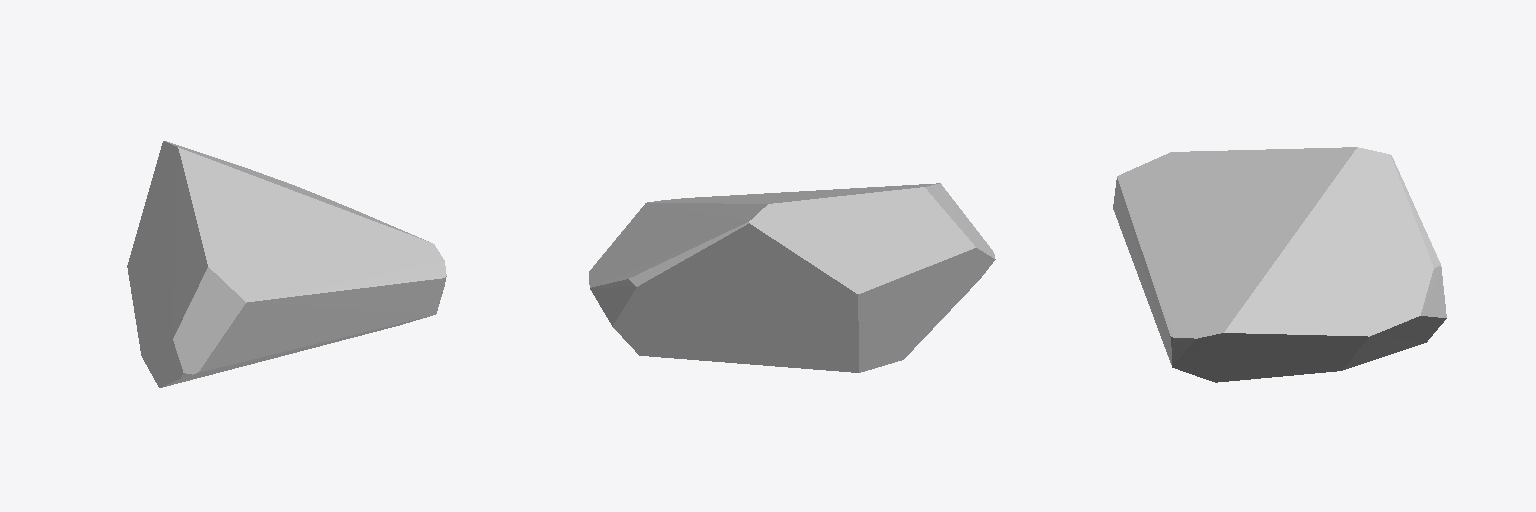
The model's file is Sphere_Cell_Fracture43.obj.
The picture shows the model from 3 angles: view 1: azimuth 30°, elevation 25°; view 2: azimuth 150°, elevation 25°; view 3: azimuth 270°, elevation 25°; orthographic projection.
Size of the model in its own units: 0.9105 by 0.5214 by 0.8782.